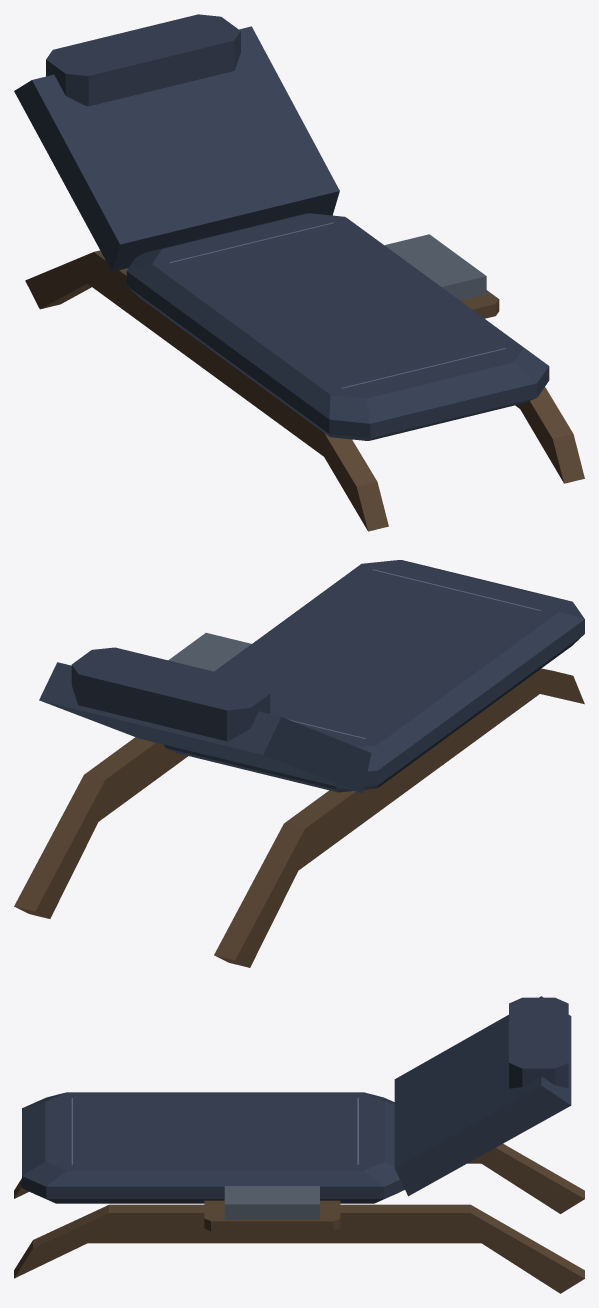
Rendered from res_pool_lounger.glb.
The picture shows the model from 3 angles, top to bottom: view 1: azimuth 30°, elevation 25°; view 2: azimuth 150°, elevation 25°; view 3: azimuth 270°, elevation 25°; orthographic projection. The views are drawn at different scales.
Visible parts, largest first — view 1: headrest, bent_teak_runner, folded_towel; view 2: headrest, bent_teak_runner, folded_towel; view 3: headrest, bent_teak_runner, folded_towel.
Part boxes in pixels (x1,y1,x2,y2): headrest: (14, 14, 549, 440); bent_teak_runner: (25, 250, 584, 531); folded_towel: (384, 234, 486, 300); headrest: (39, 560, 584, 792); bent_teak_runner: (14, 668, 584, 967); folded_towel: (168, 632, 251, 671); headrest: (22, 996, 571, 1203); bent_teak_runner: (14, 1144, 584, 1293); folded_towel: (224, 1186, 319, 1219).
Size of the model in its own units: 0.95 by 0.85 by 2.1.
